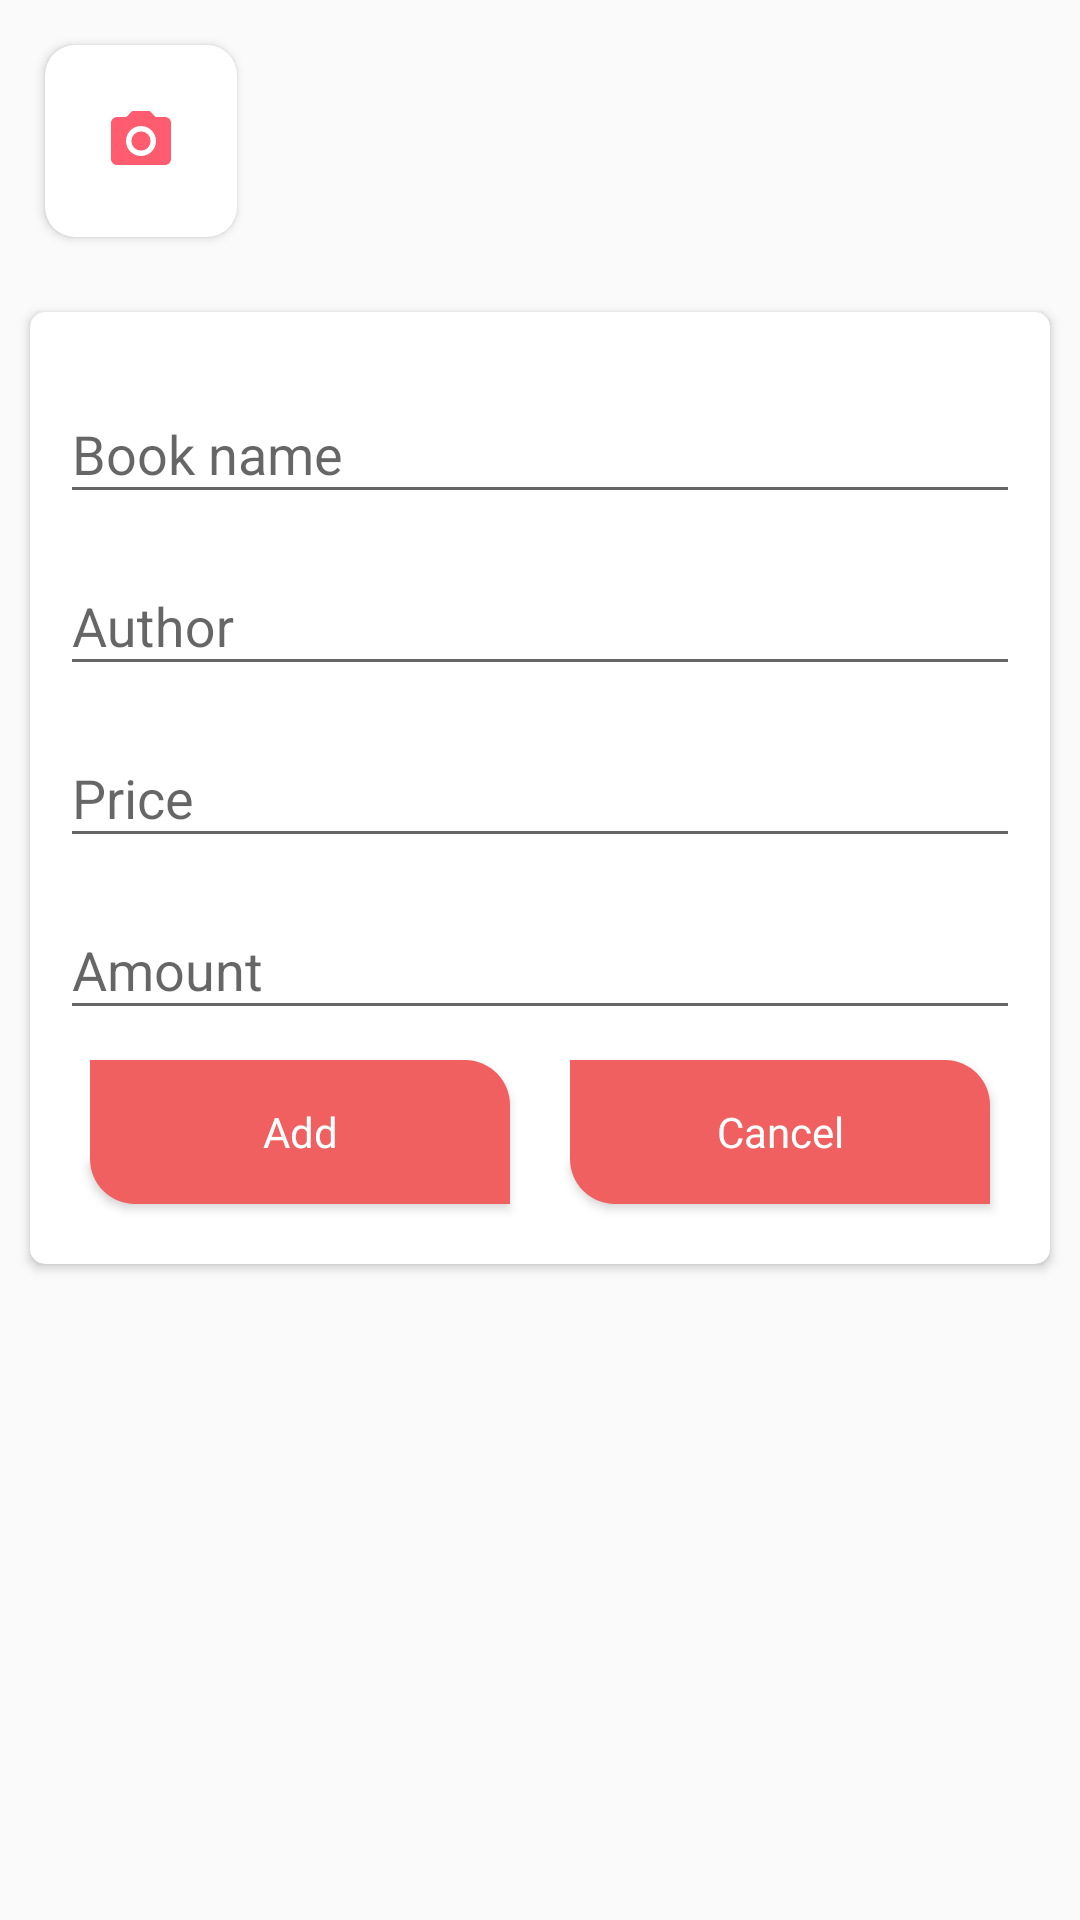

Named icons in this screenshot (1080w x 1920h) and their centers, [x,y]:
camera: [141,141]
